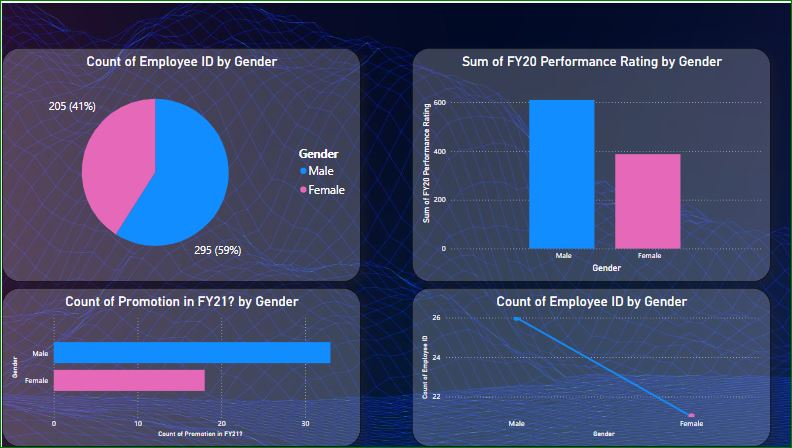

Layout of this report page (visuals, bound fields, positions):
{"tool":"powerbi","page":{"name":"Visual","canvas":[1280,720],"ordinal":1},"visuals":[{"type":"pieChart","fields":{"Category":["Pharma Group AG.Gender"],"Y":["CountNonNull(Pharma Group AG.Employee ID)"]},"box":[0,73.7,581.6,378.9],"z":1},{"type":"clusteredBarChart","fields":{"Category":["Pharma Group AG.Gender"],"Y":["CountNonNull(Pharma Group AG.Promotion in FY21?)"]},"box":[0,463.2,581.6,257.9],"z":2},{"type":"clusteredColumnChart","fields":{"Y":["Sum(Pharma Group AG.FY20 Performance Rating)"],"Category":["Pharma Group AG.Gender"]},"box":[665.8,73.7,581.6,378.9],"z":3},{"type":"lineChart","fields":{"Category":["Pharma Group AG.Gender"],"Y":["CountNonNull(Pharma Group AG.Employee ID)"]},"box":[665.8,463.2,581.6,257.9],"z":4}]}

Visuals, with their boxes in screenshot pixels (x1, y1, x2, y2), scaled from the page's 1280x720 canvas onto the 792x448 screenshot:
pieChart - Pharma Group AG.Gender x CountNonNull(Pharma Group AG.Employee ID): <box>0,46,360,282</box>
clusteredBarChart - Pharma Group AG.Gender x CountNonNull(Pharma Group AG.Promotion in FY21?): <box>0,288,360,447</box>
clusteredColumnChart - Sum(Pharma Group AG.FY20 Performance Rating) x Pharma Group AG.Gender: <box>412,46,772,282</box>
lineChart - Pharma Group AG.Gender x CountNonNull(Pharma Group AG.Employee ID): <box>412,288,772,447</box>
